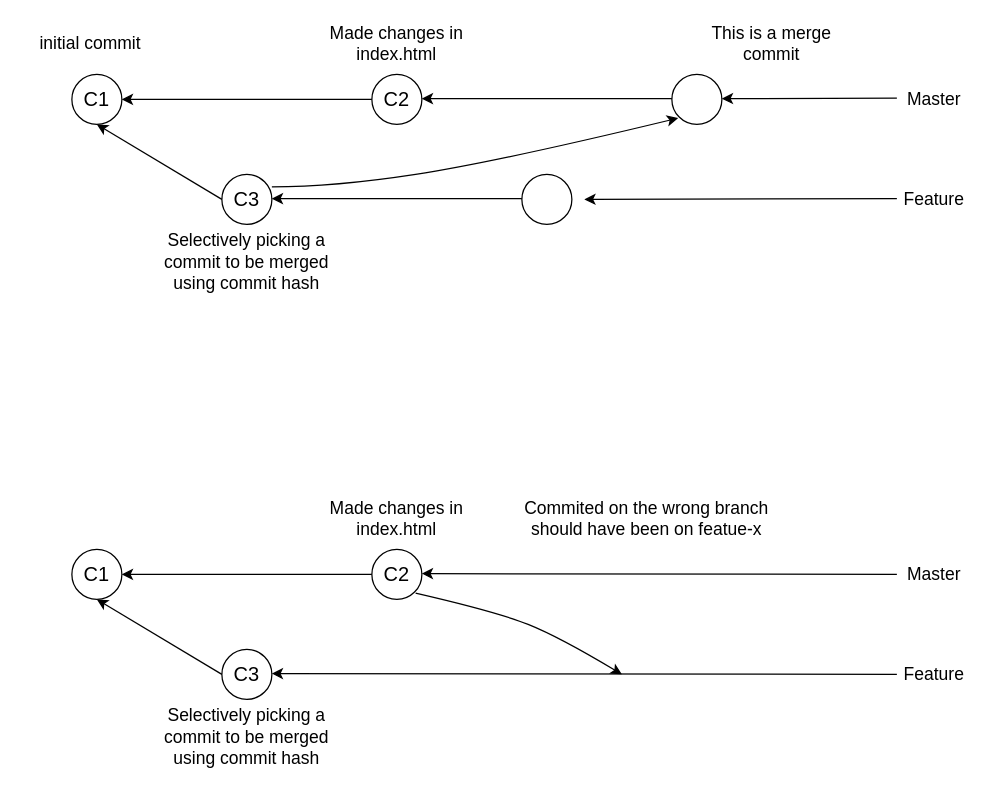
Image size: 993x795. Some labels were removed from this diagram. Each missing label, with the box of its shape:
C4: (521, 173, 572, 224)
C5: (671, 73, 722, 124)
